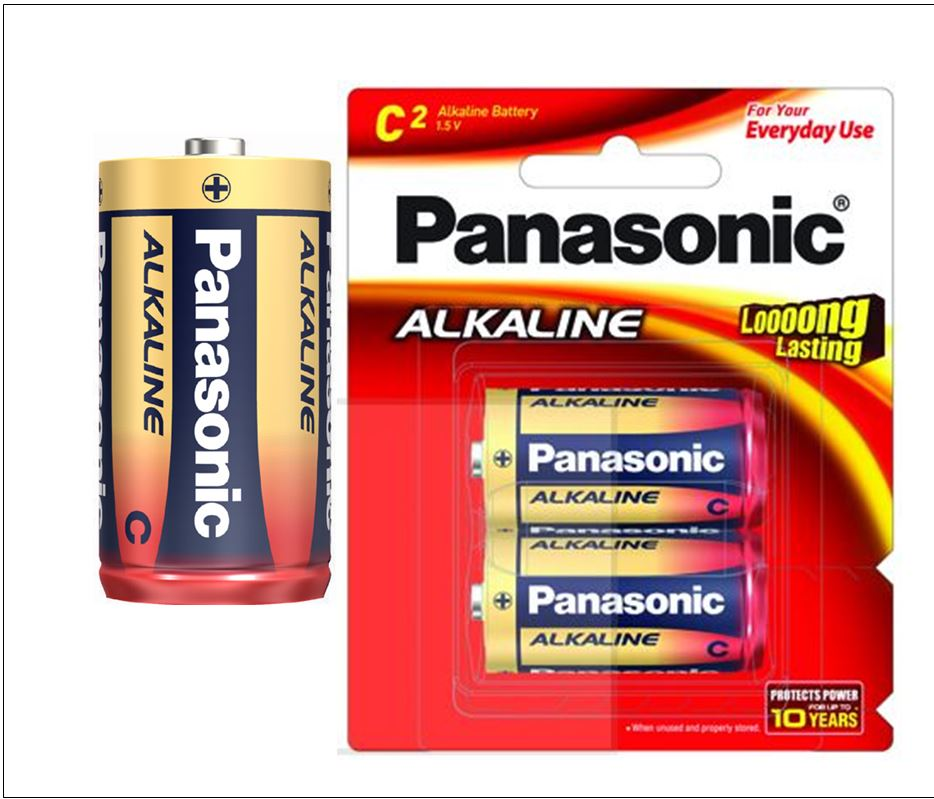Battery: (90, 131, 335, 609), (468, 527, 774, 676), (467, 383, 774, 528)
